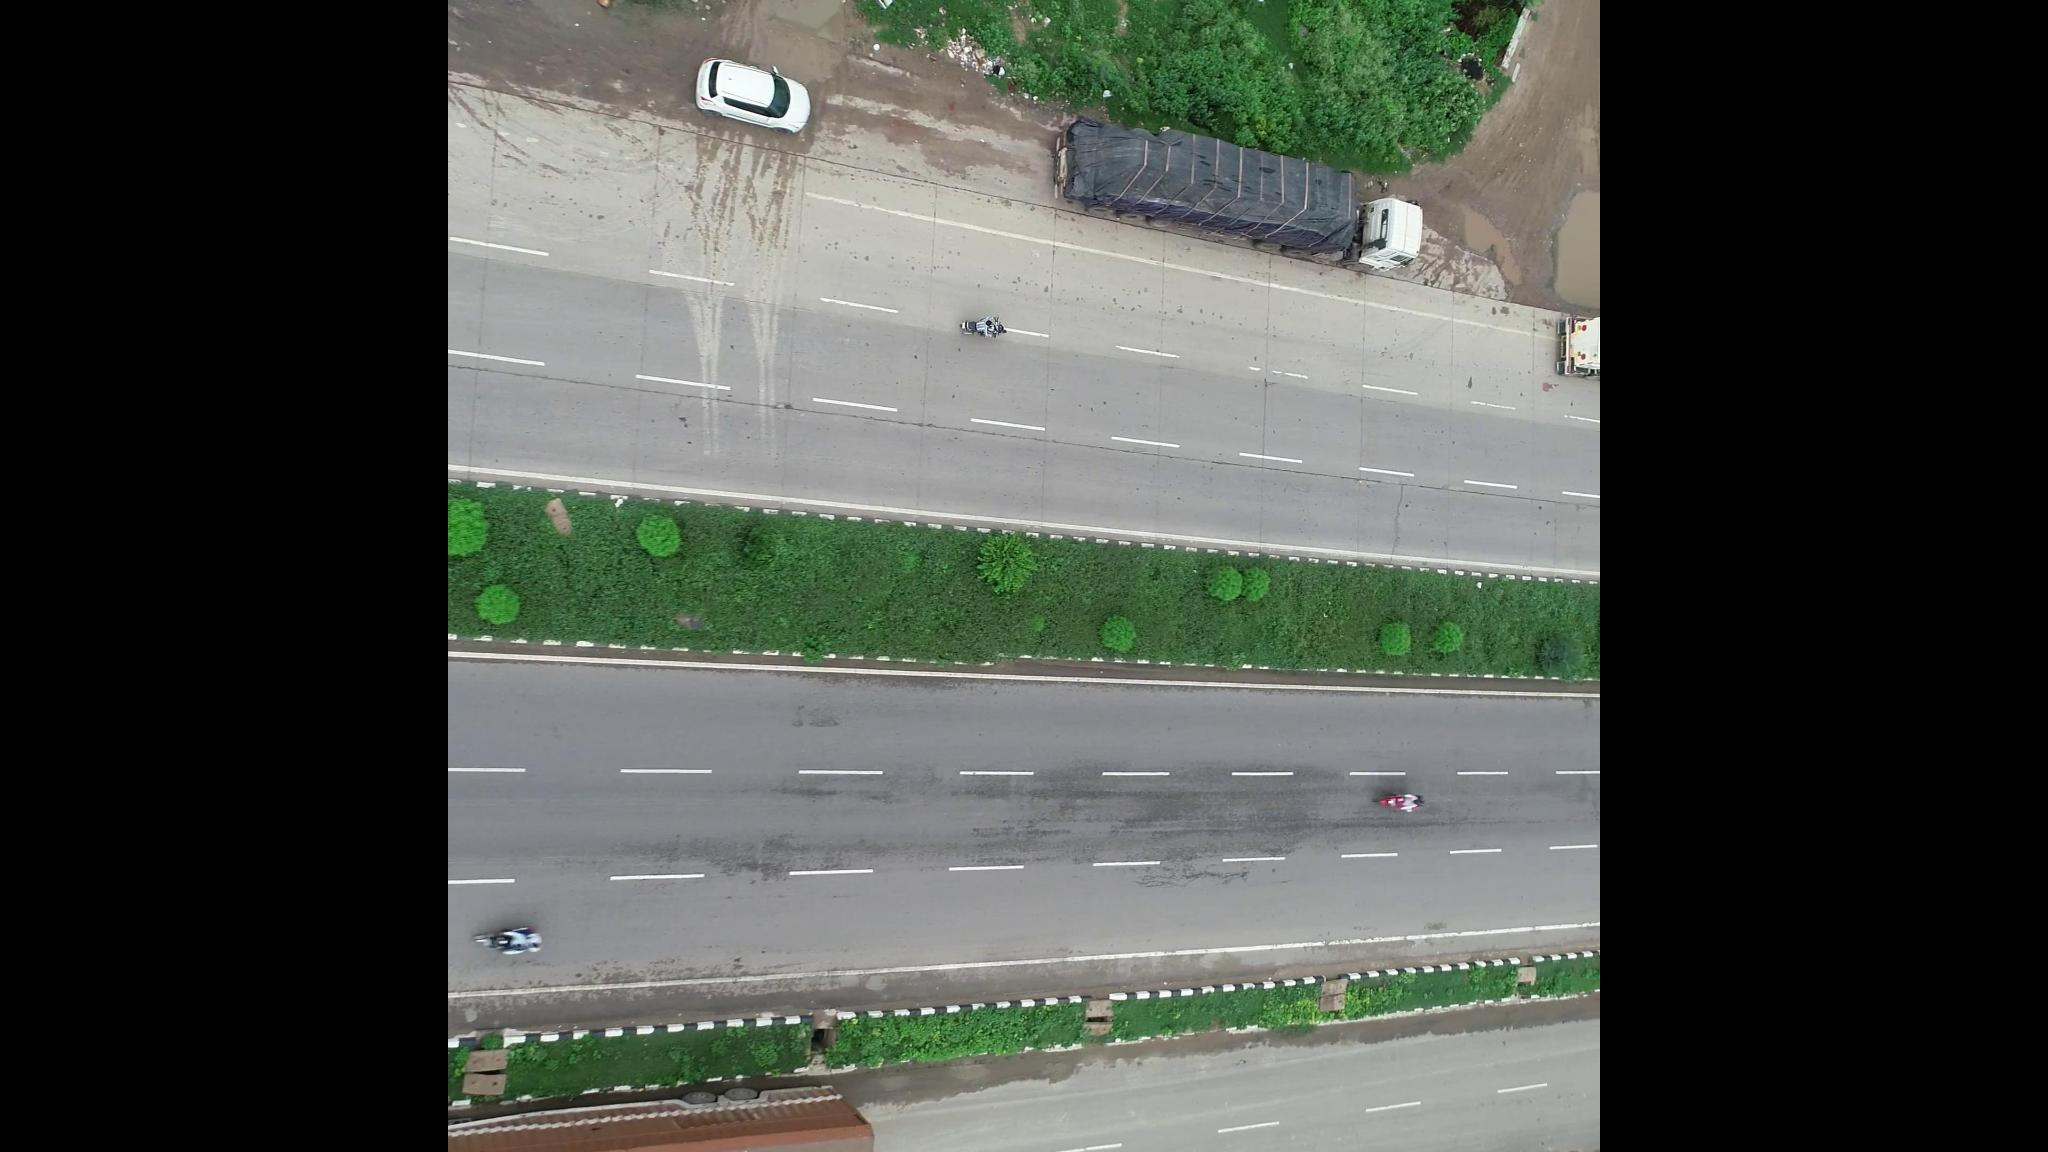Cracks: (1142, 871, 1267, 889)
Ravelling: (1115, 783, 1342, 857)
